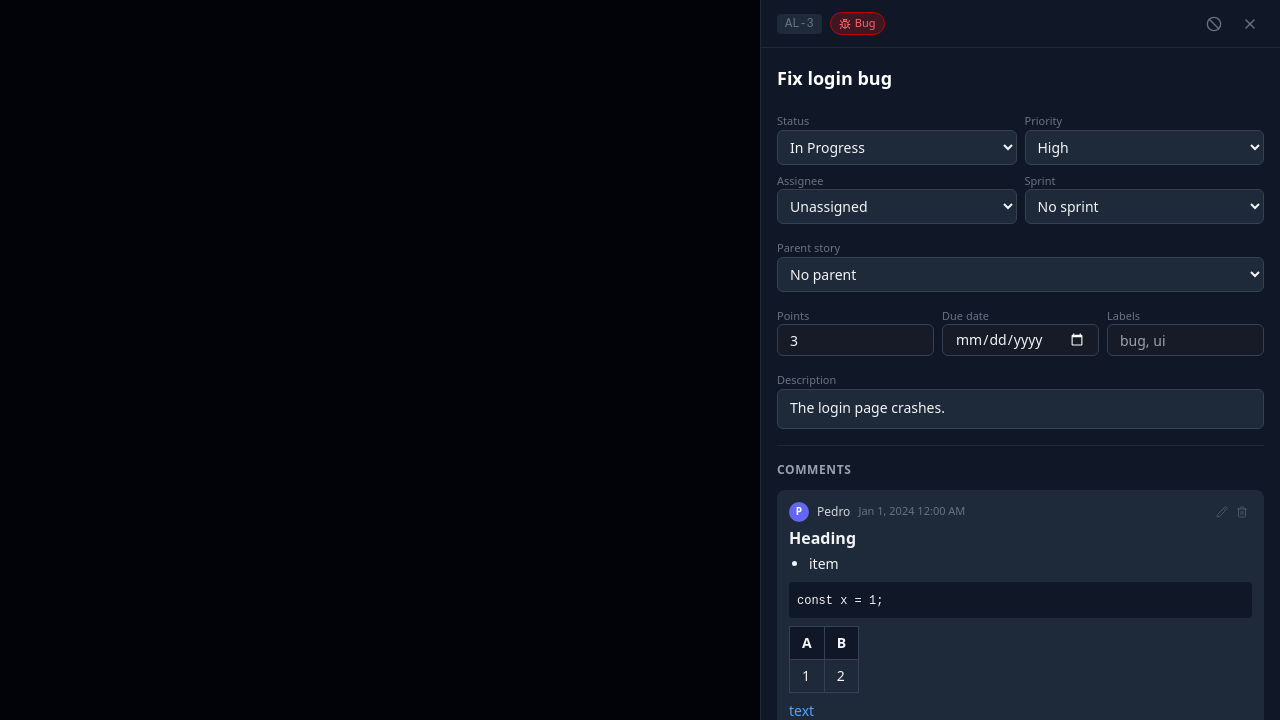
it: CommentsSection — markdown bodies (FB-156) › saving the raw markdown unchanged makes no backend write and re-renders it as markdown
Click the button named "edit comment".
click(1222, 512)  # box [1212, 502, 1232, 522]
(page scrolled)
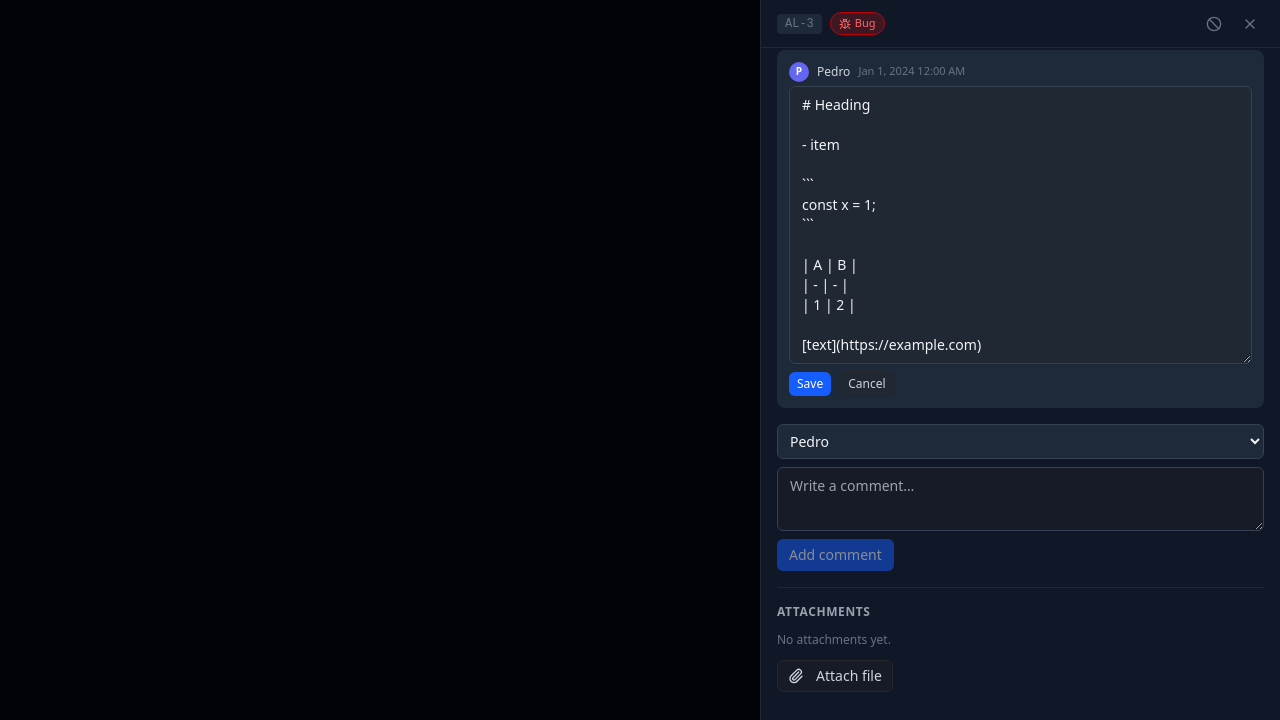
Click the button "Save".
click(810, 384)  # box [789, 372, 831, 396]
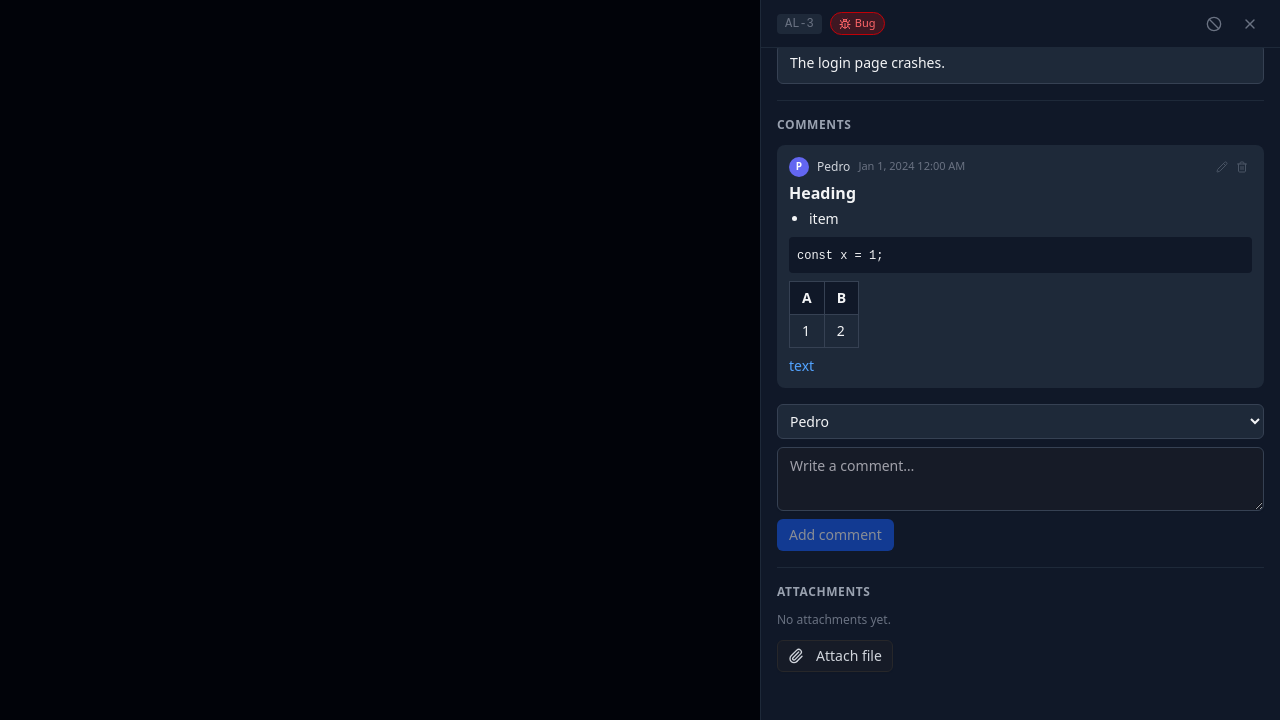
Check: the element with id "comment-42" does not show "```"
Check: the heading "Heading" is shown, box [789, 182, 856, 204]
